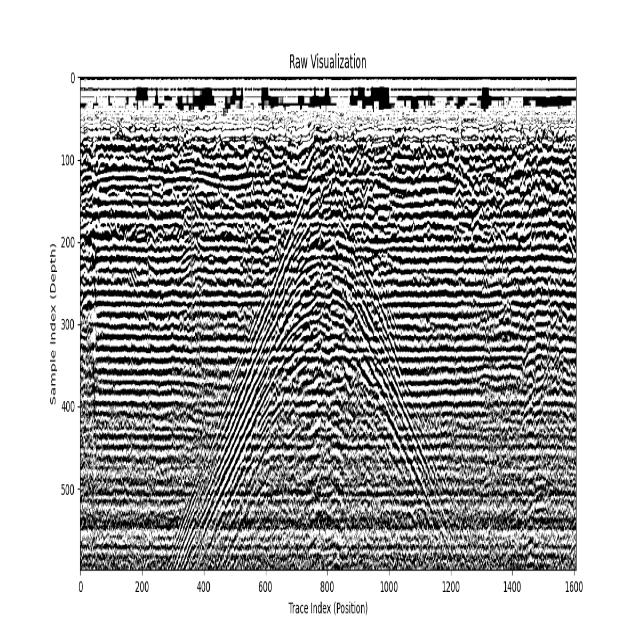anomaly: (164, 133, 464, 568)
